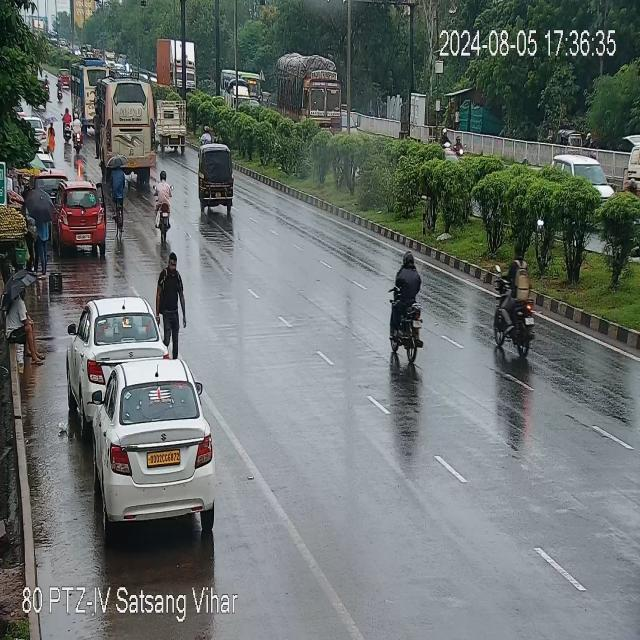2-wheelers: (382, 241, 430, 366), (487, 258, 540, 359), (107, 156, 129, 236), (156, 168, 173, 243), (439, 126, 465, 164), (62, 104, 72, 141), (199, 126, 214, 150), (75, 115, 83, 154), (57, 75, 62, 102)
auto: (198, 148, 235, 212)
bus: (96, 74, 156, 171), (72, 59, 105, 114)
car: (90, 359, 215, 531), (68, 295, 164, 407), (550, 149, 618, 200), (52, 188, 105, 250)
pedestrian: (4, 282, 48, 367), (160, 250, 184, 346), (27, 212, 50, 277), (48, 123, 54, 149)
truck: (274, 49, 340, 126), (158, 40, 199, 90), (160, 96, 189, 157)
